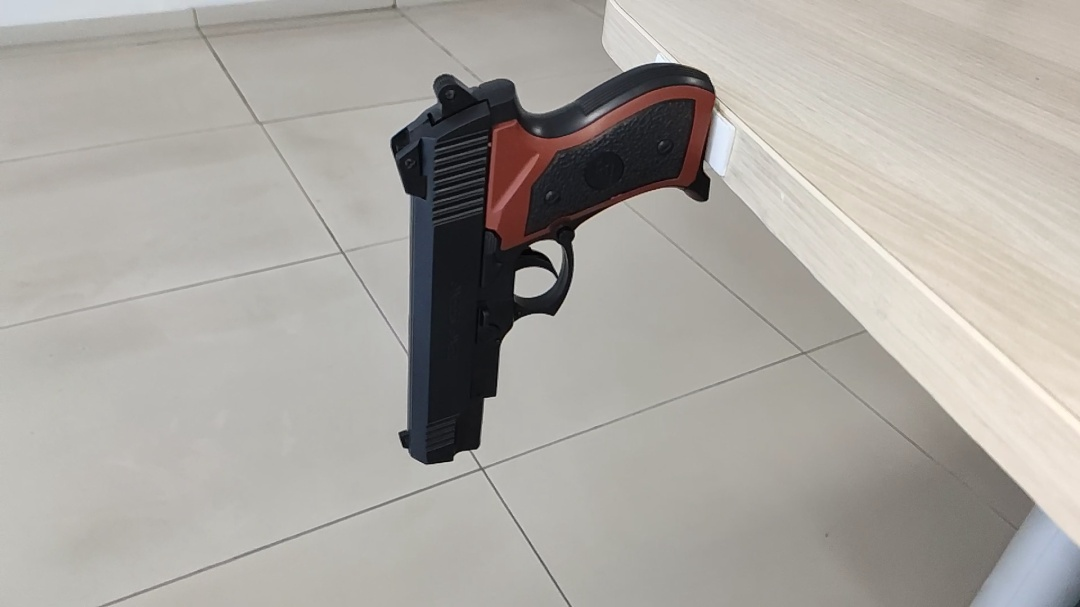gun: (614, 229, 763, 328)
